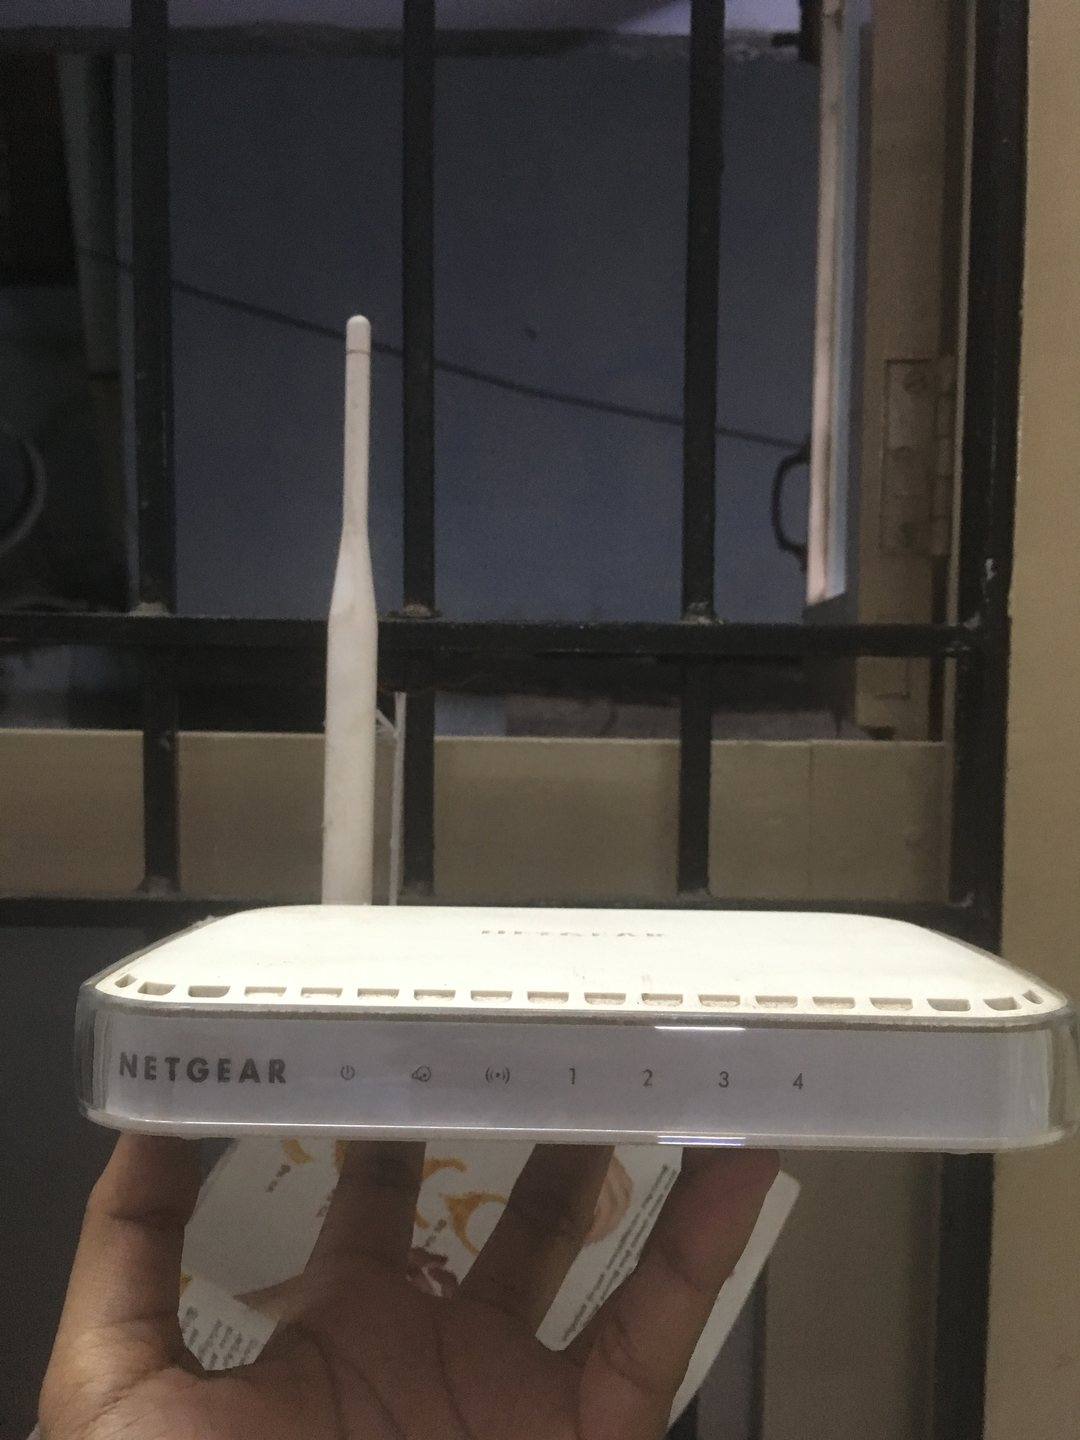NETGEAR: (110, 1044, 294, 1096)
modem: (62, 968, 1075, 1154)
